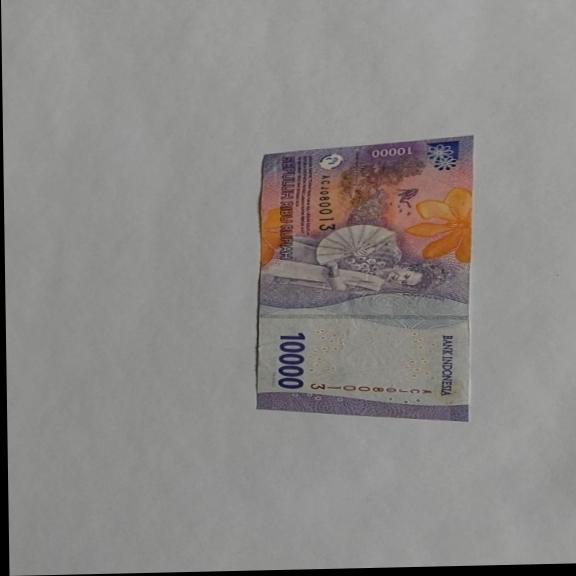Kertas: (252, 135, 478, 425), (275, 331, 308, 390)
